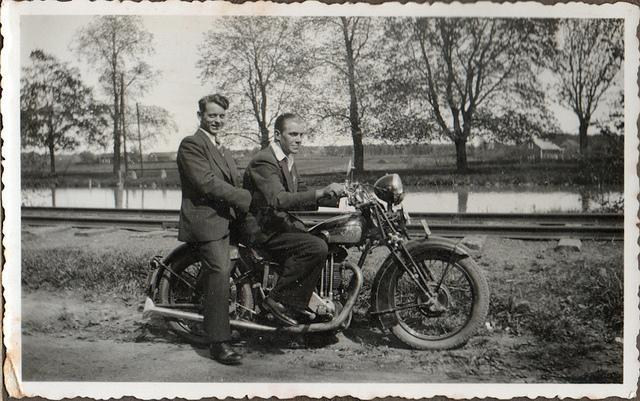motorcycle: (145, 176, 488, 354)
